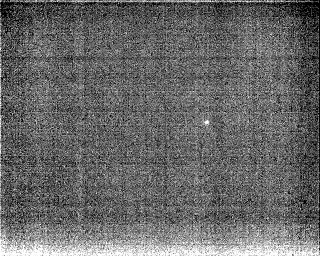BIRD: (202, 117, 211, 128)
